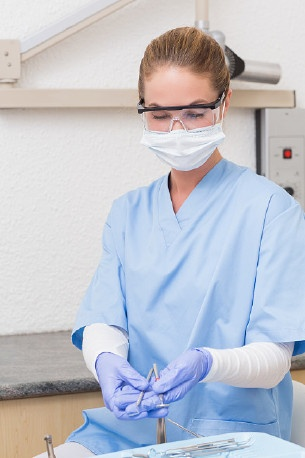Mask: (138, 87, 224, 172)
